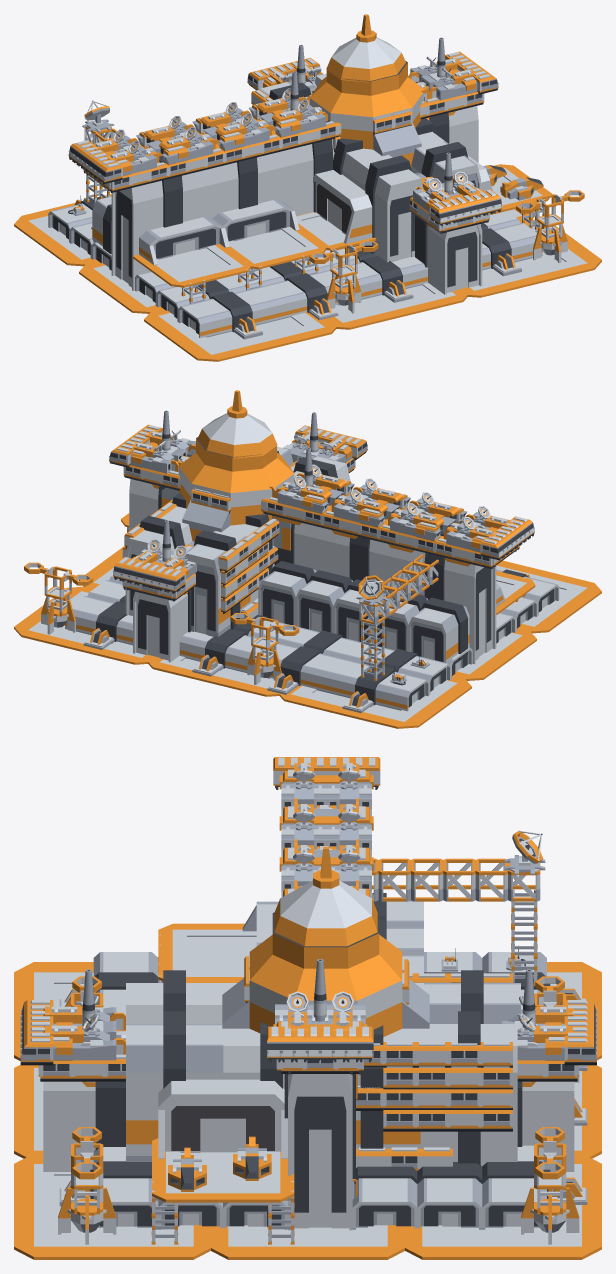
Rendered from gouvernance.glb.
3 views of the same model, one above another, from view 1: azimuth 30°, elevation 25°; view 2: azimuth 150°, elevation 25°; view 3: azimuth 270°, elevation 25° (orthographic). The views are drawn at different scales.
Parts seen in each view (by area): view 1: mergedBlocks(Clone); view 2: mergedBlocks(Clone); view 3: mergedBlocks(Clone).
Boxes of the visible parts, x1,y1,x2,y2 form: mergedBlocks(Clone): (14, 14, 601, 361); mergedBlocks(Clone): (14, 390, 601, 728); mergedBlocks(Clone): (14, 757, 601, 1259).
Size of the model in its own units: 22.25 by 10.62 by 18.16.
1 material, 1 textured.
